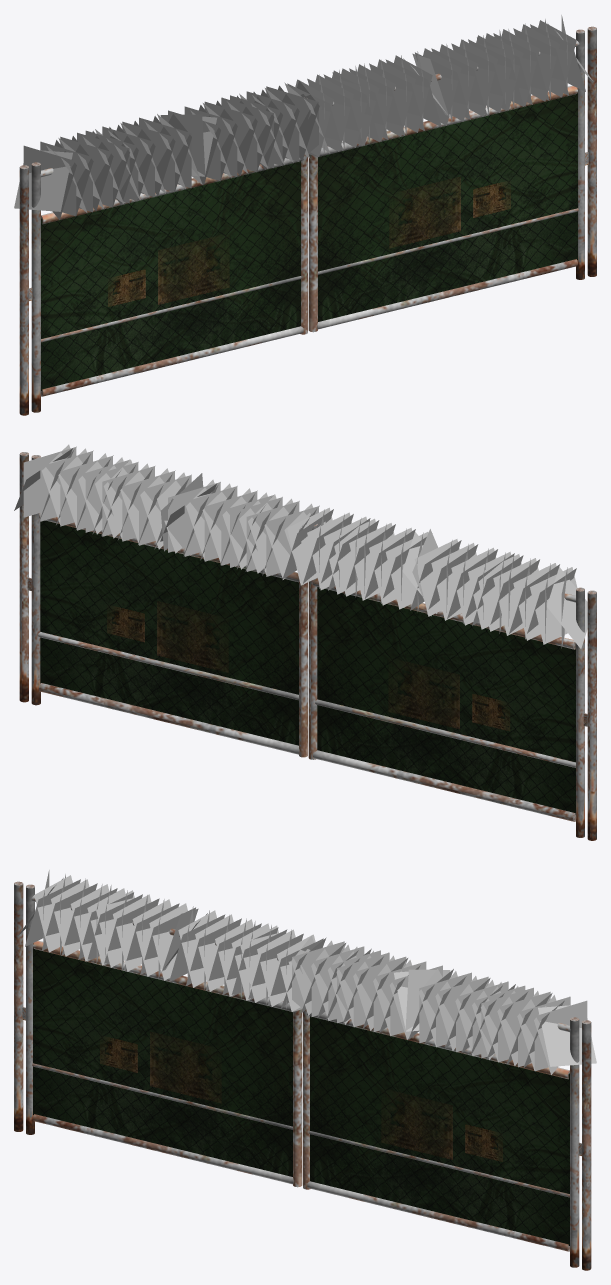
Rendered from MilitaryGate01.fbx.
The picture shows the model from 3 angles, top to bottom: view 1: azimuth 30°, elevation 25°; view 2: azimuth 150°, elevation 25°; view 3: azimuth 330°, elevation 25°; orthographic projection.
Parts seen in each view (by area): view 1: MilitaryGate01; view 2: MilitaryGate01; view 3: MilitaryGate01.
Part boxes in pixels (bbox=[...]): MilitaryGate01: bbox=[14, 15, 596, 415]; MilitaryGate01: bbox=[14, 444, 596, 840]; MilitaryGate01: bbox=[14, 870, 596, 1270].
Size of the model in its own units: 471 by 206 by 57.61.
